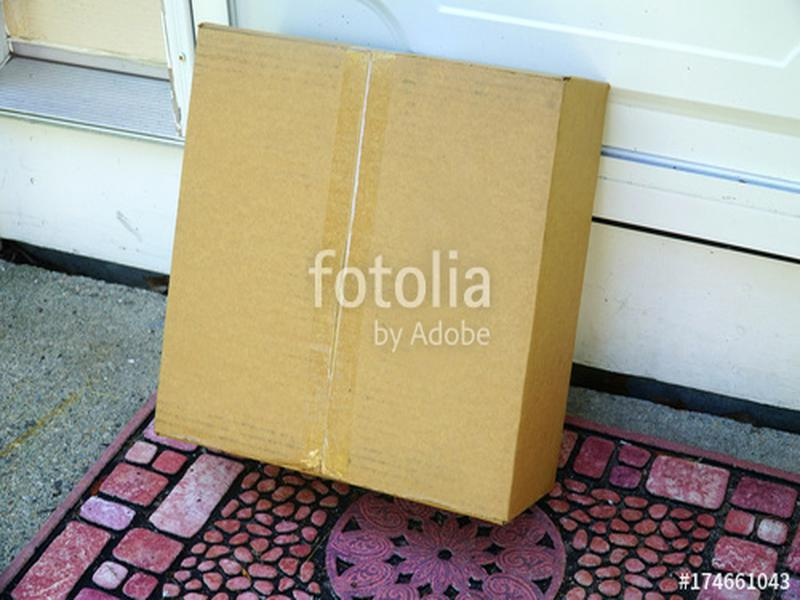package: (143, 16, 622, 534)
